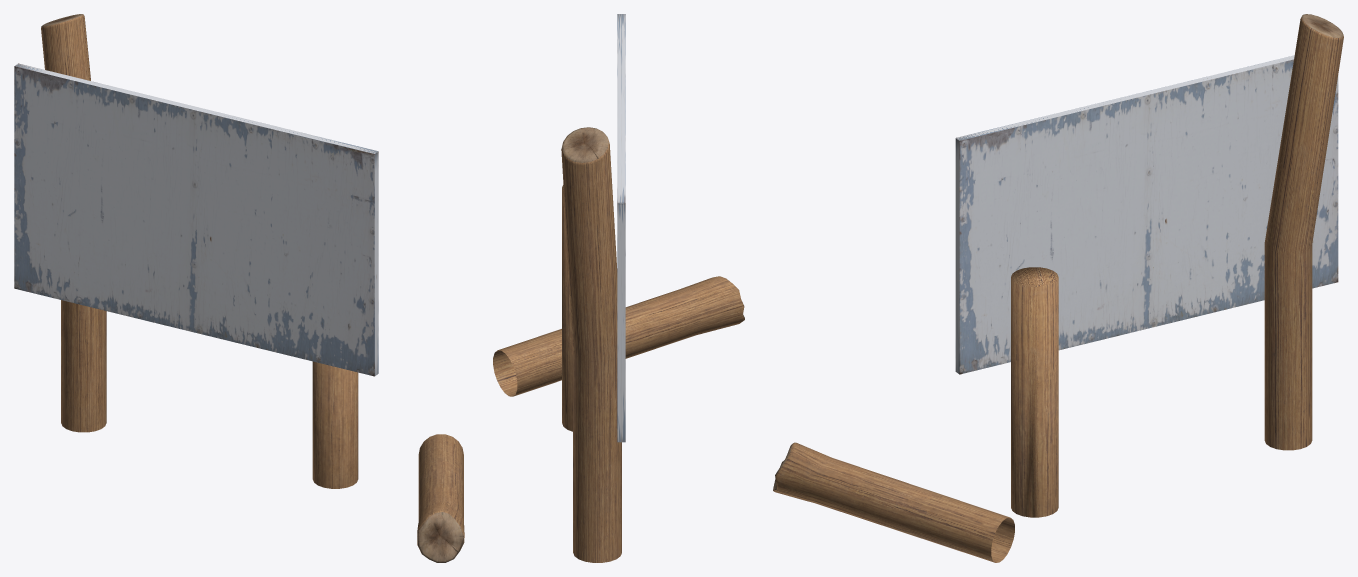
The model's file is scene_0_sign.fbx.
3 renders of one model, left to right at view 1: azimuth 30°, elevation 25°; view 2: azimuth 150°, elevation 25°; view 3: azimuth 270°, elevation 25°, orthographic. The views are drawn at different scales.
Parts seen in each view (by area): view 1: Box022, Cylinder008; view 2: Cylinder008, Box022; view 3: Box022, Cylinder008.
Part boxes in pixels (box(x1,y1,x2,y2)): Box022: box(14, 63, 378, 376); Cylinder008: box(41, 14, 464, 562); Cylinder008: box(493, 127, 744, 562); Box022: box(617, 14, 625, 442); Box022: box(955, 55, 1338, 374); Cylinder008: box(773, 14, 1343, 562).
Bounding box in the file's own units: 226 × 307 × 371.
